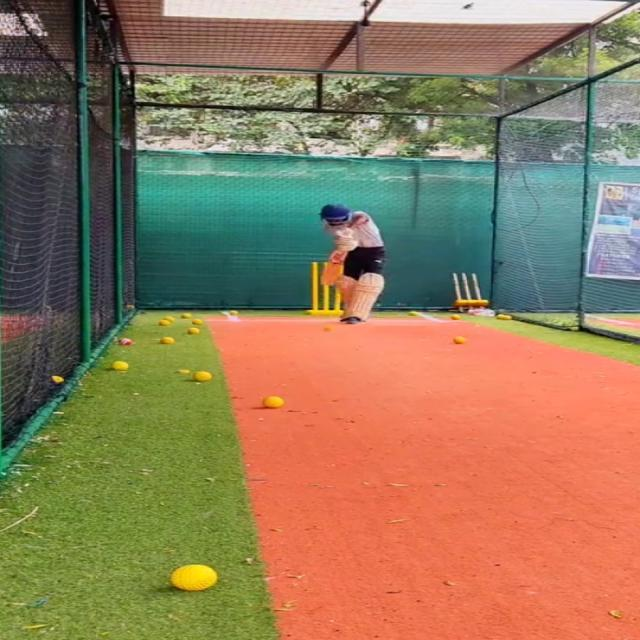ball: (161, 560, 224, 592), (262, 396, 286, 410), (190, 369, 213, 383), (109, 359, 128, 372), (157, 336, 176, 346), (115, 335, 132, 346), (451, 335, 468, 344), (183, 327, 199, 336), (493, 313, 507, 320), (156, 319, 172, 325), (447, 313, 460, 320), (190, 317, 202, 324), (179, 313, 192, 319), (229, 310, 238, 314)
stump: (307, 260, 341, 316)
